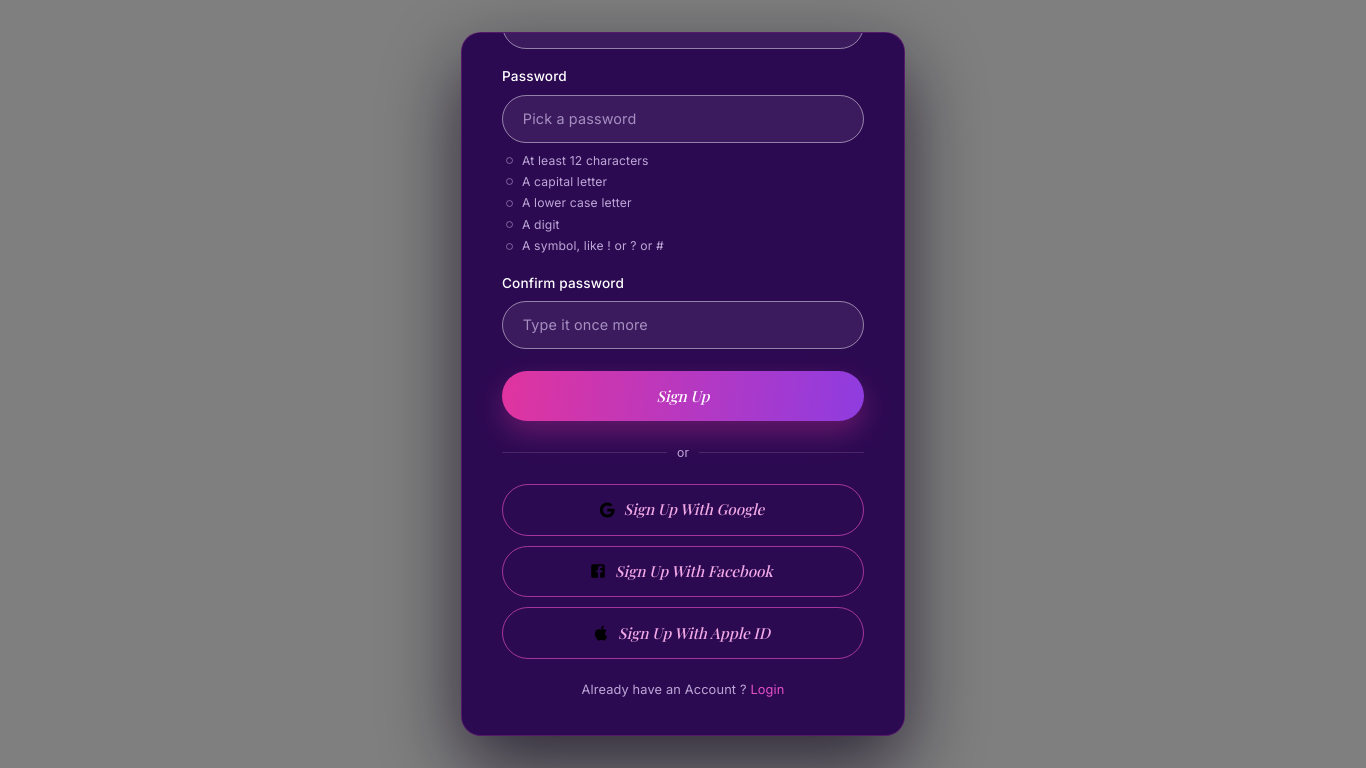
Test: signing up with a provider › says so when the identity provider cannot be reached
(page scrolled)
Click the button "Sign Up With Google" at (683, 510), box [502,484,864,536]
(page scrolled)
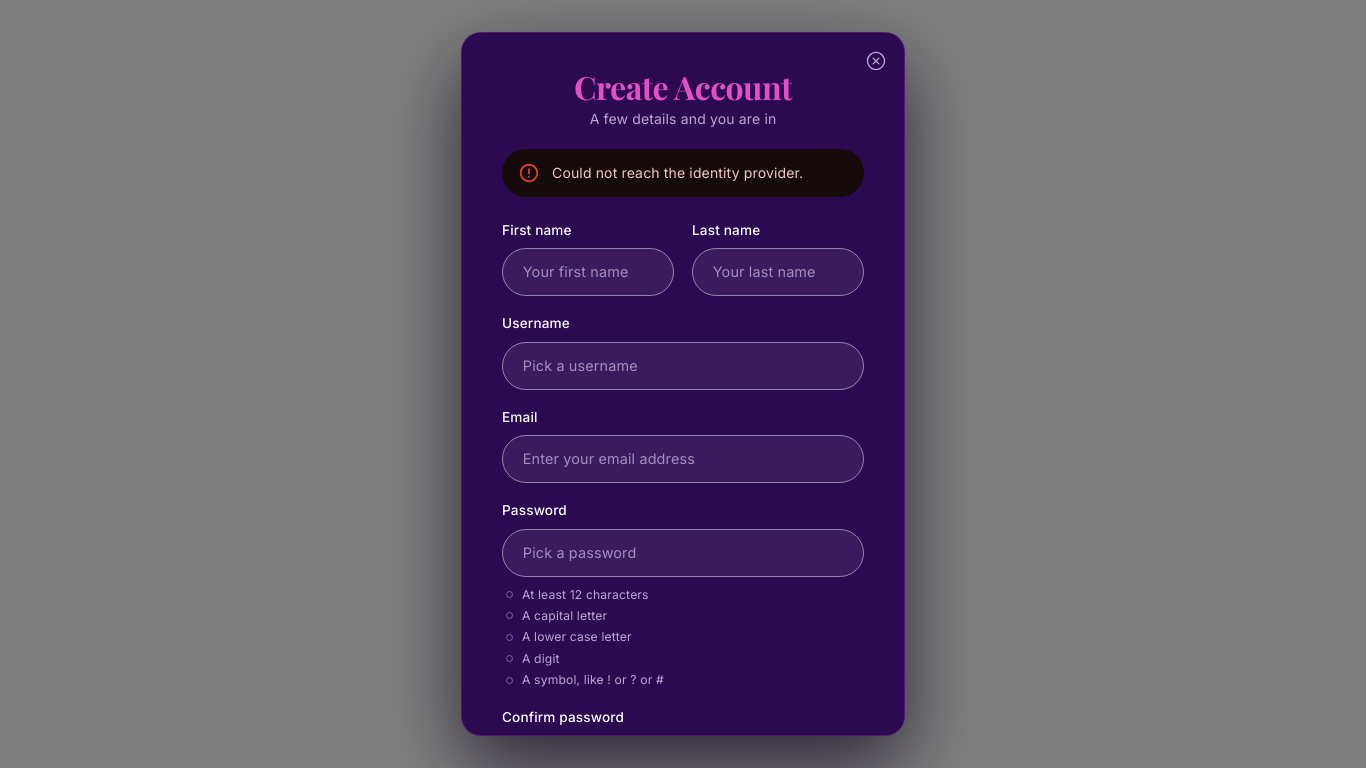
expect the message reads "Could not reach the identity provider.": met, box [552,164,803,181]
